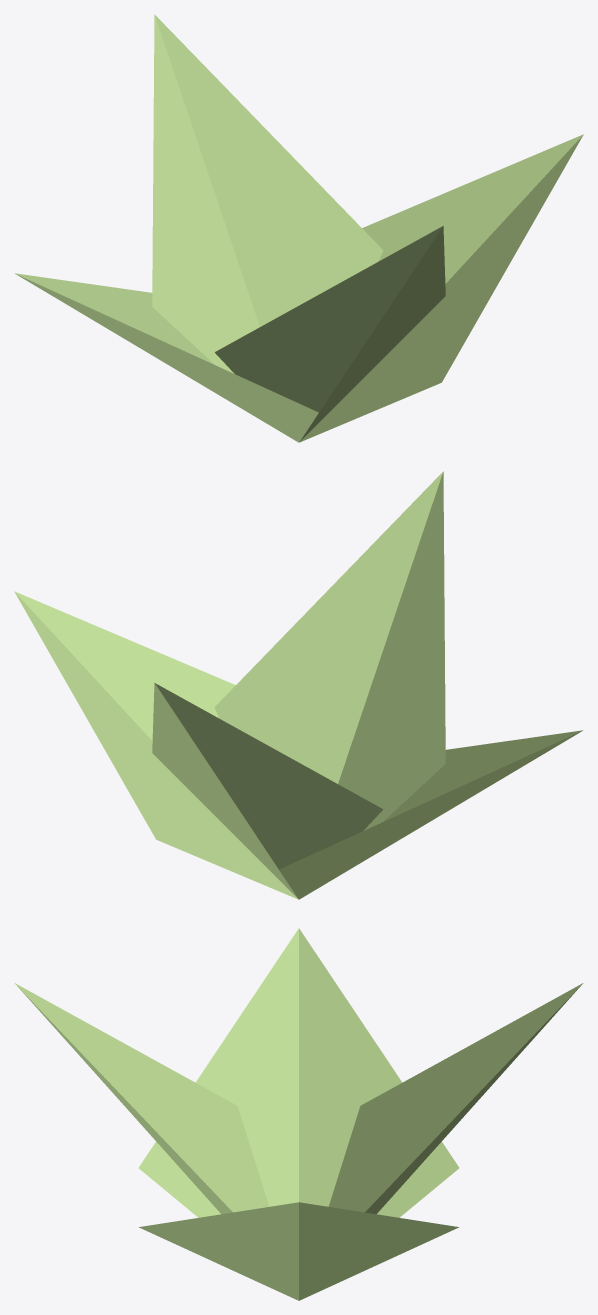
Rendered from plant_bushSmall.glb.
3 renders of one model, top to bottom at view 1: azimuth 30°, elevation 25°; view 2: azimuth 150°, elevation 25°; view 3: azimuth 270°, elevation 25°, orthographic.
Parts seen in each view (by area): view 1: plant_bushSmall; view 2: plant_bushSmall; view 3: plant_bushSmall.
Boxes of the visible parts, box(x1,y1,x2,y2) form: plant_bushSmall: box(15, 14, 583, 442); plant_bushSmall: box(14, 471, 582, 899); plant_bushSmall: box(14, 928, 583, 1300).
Size of the model in its own units: 0.383 by 0.2073 by 0.3364.
